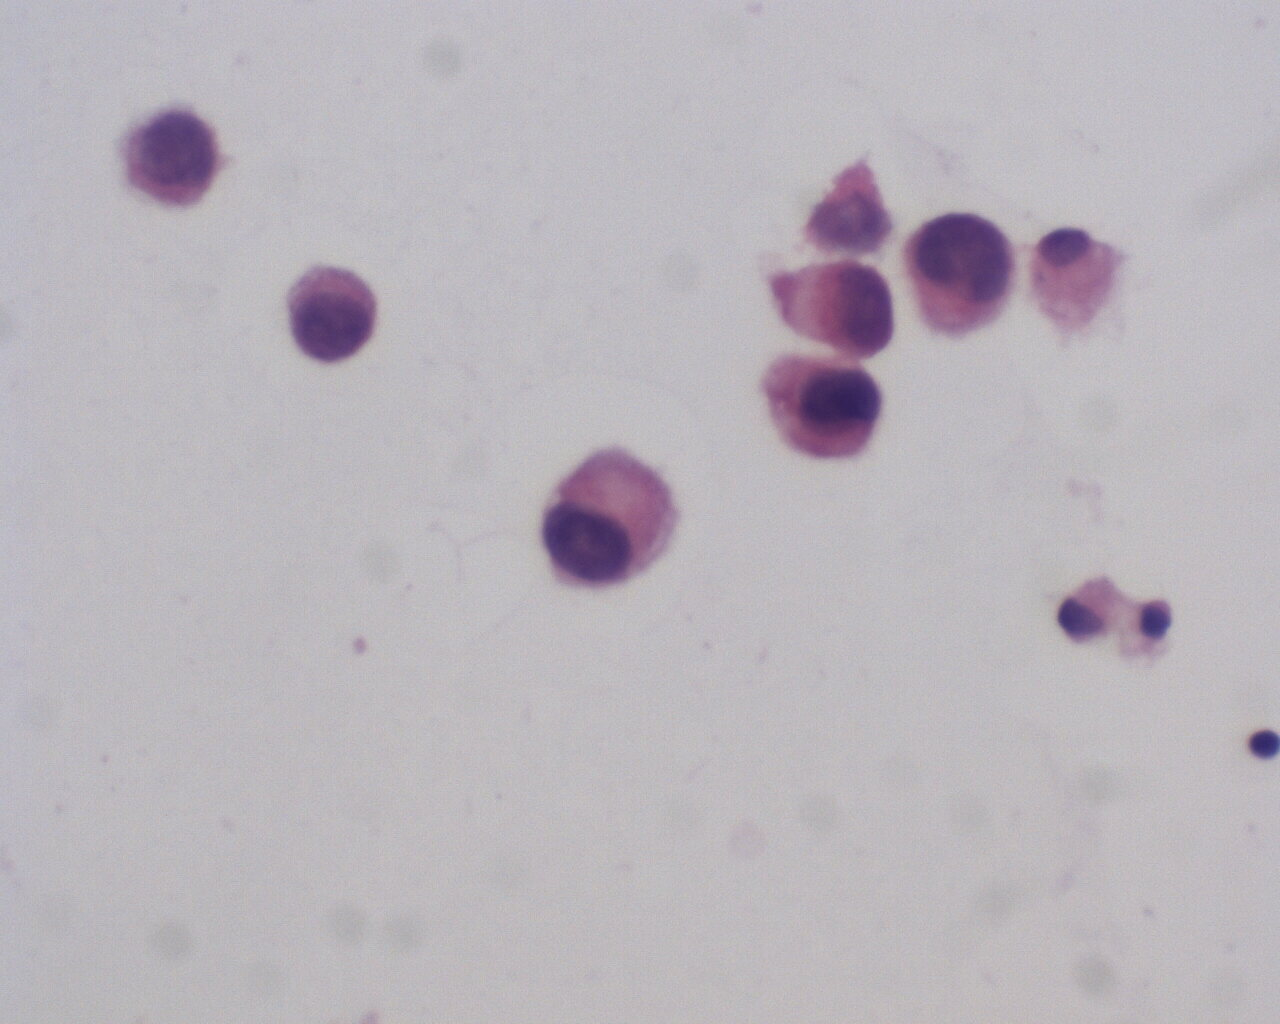ab: (541, 440, 689, 594), (901, 209, 1021, 347), (755, 347, 884, 470), (771, 253, 904, 363), (115, 99, 228, 212), (277, 260, 387, 369)
histo: (1027, 224, 1126, 338)
